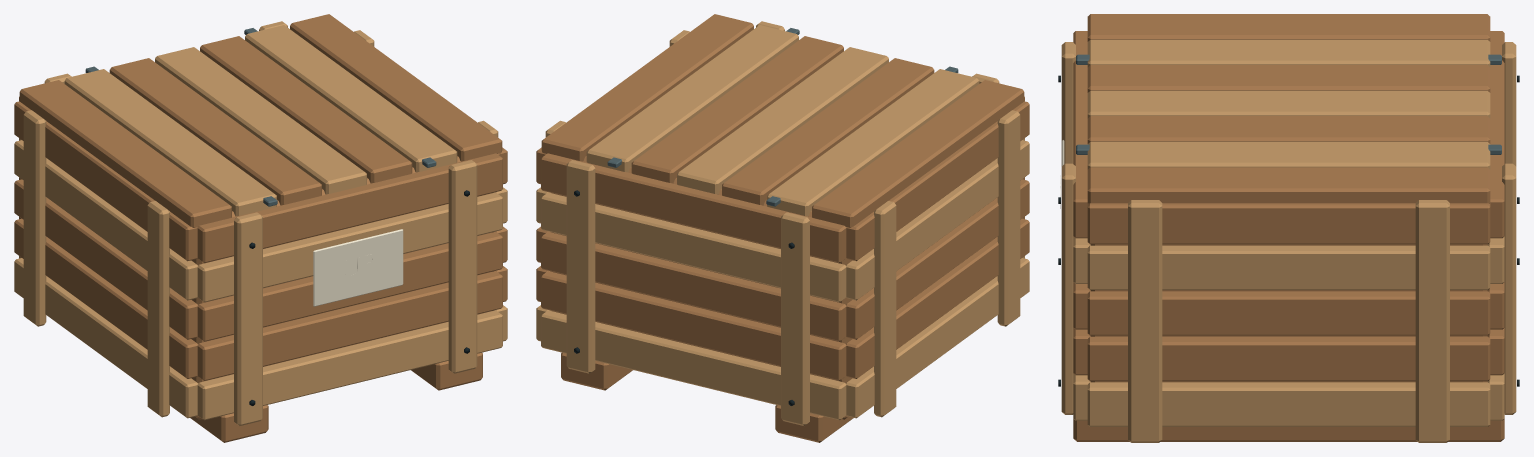
The model's file is oak-crate.high.glb.
3 views of the same model, side by side, from view 1: azimuth 30°, elevation 25°; view 2: azimuth 150°, elevation 25°; view 3: azimuth 270°, elevation 25° (orthographic). The views are drawn at different scales.
Visible parts, largest first — view 1: geometry:body:0, geometry:body:1, geometry:body:2; view 2: geometry:body:0, geometry:body:1; view 3: geometry:body:0, geometry:body:1, geometry:body:4.
Part boxes in pixels (box(x1,y1,x2,y2)): geometry:body:0: box(14, 14, 507, 442); geometry:body:1: box(14, 21, 507, 425); geometry:body:2: box(313, 229, 403, 306); geometry:body:0: box(536, 14, 1029, 442); geometry:body:1: box(536, 21, 1029, 425); geometry:body:0: box(1073, 14, 1504, 441); geometry:body:1: box(1061, 39, 1516, 442); geometry:body:4: box(1076, 54, 1501, 154).
Bounding box in the file's own units: 1.58 × 1.03 × 1.6.
